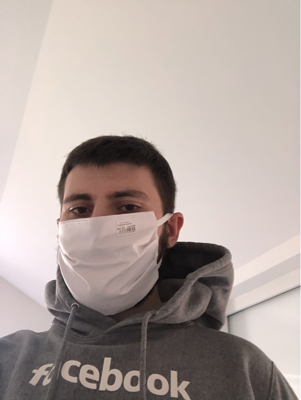with_mask: (58, 182, 165, 316)
